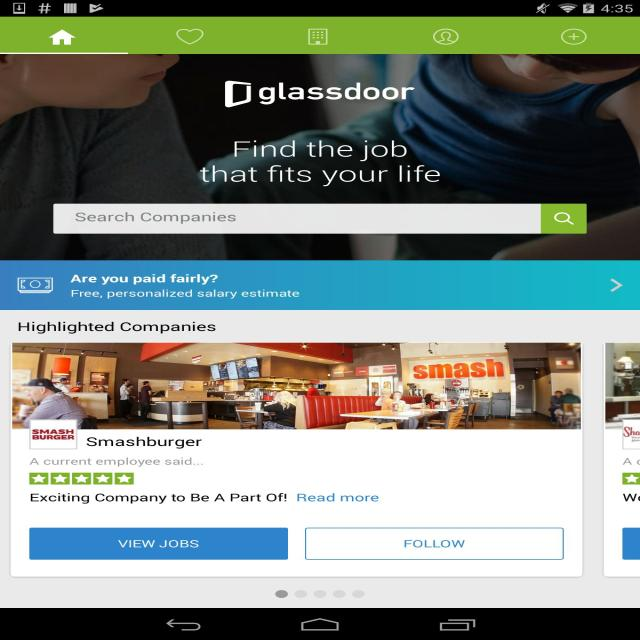button: (305, 526, 564, 560), (28, 527, 288, 559), (128, 17, 264, 55), (381, 17, 508, 54), (510, 17, 640, 53), (2, 18, 126, 54), (267, 16, 379, 54), (542, 203, 585, 233), (605, 274, 626, 297)
field: (52, 204, 541, 234)
heading: (216, 80, 420, 110), (15, 319, 219, 336), (86, 437, 204, 450)
image: (15, 342, 577, 429), (26, 471, 138, 486), (31, 419, 77, 450), (14, 274, 55, 297)
label: (71, 208, 239, 224)
link: (287, 492, 382, 505)
text: (188, 137, 444, 186), (68, 273, 305, 300), (24, 492, 382, 506), (25, 456, 206, 468)
